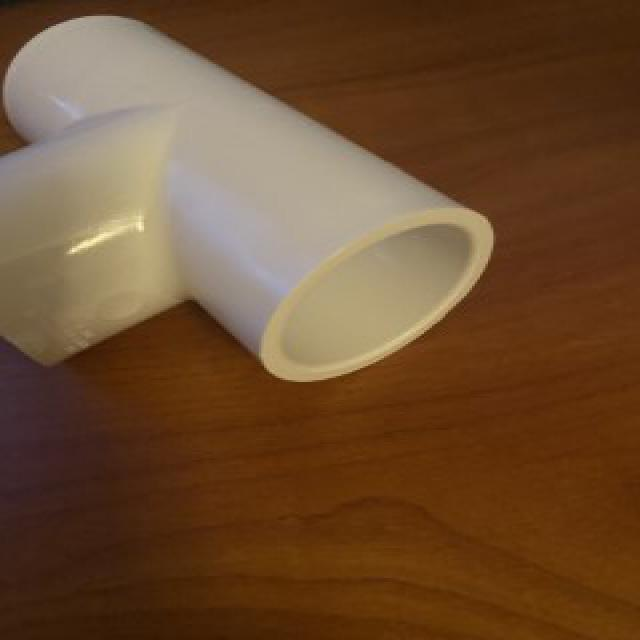T Joint: (0, 15, 495, 385)
